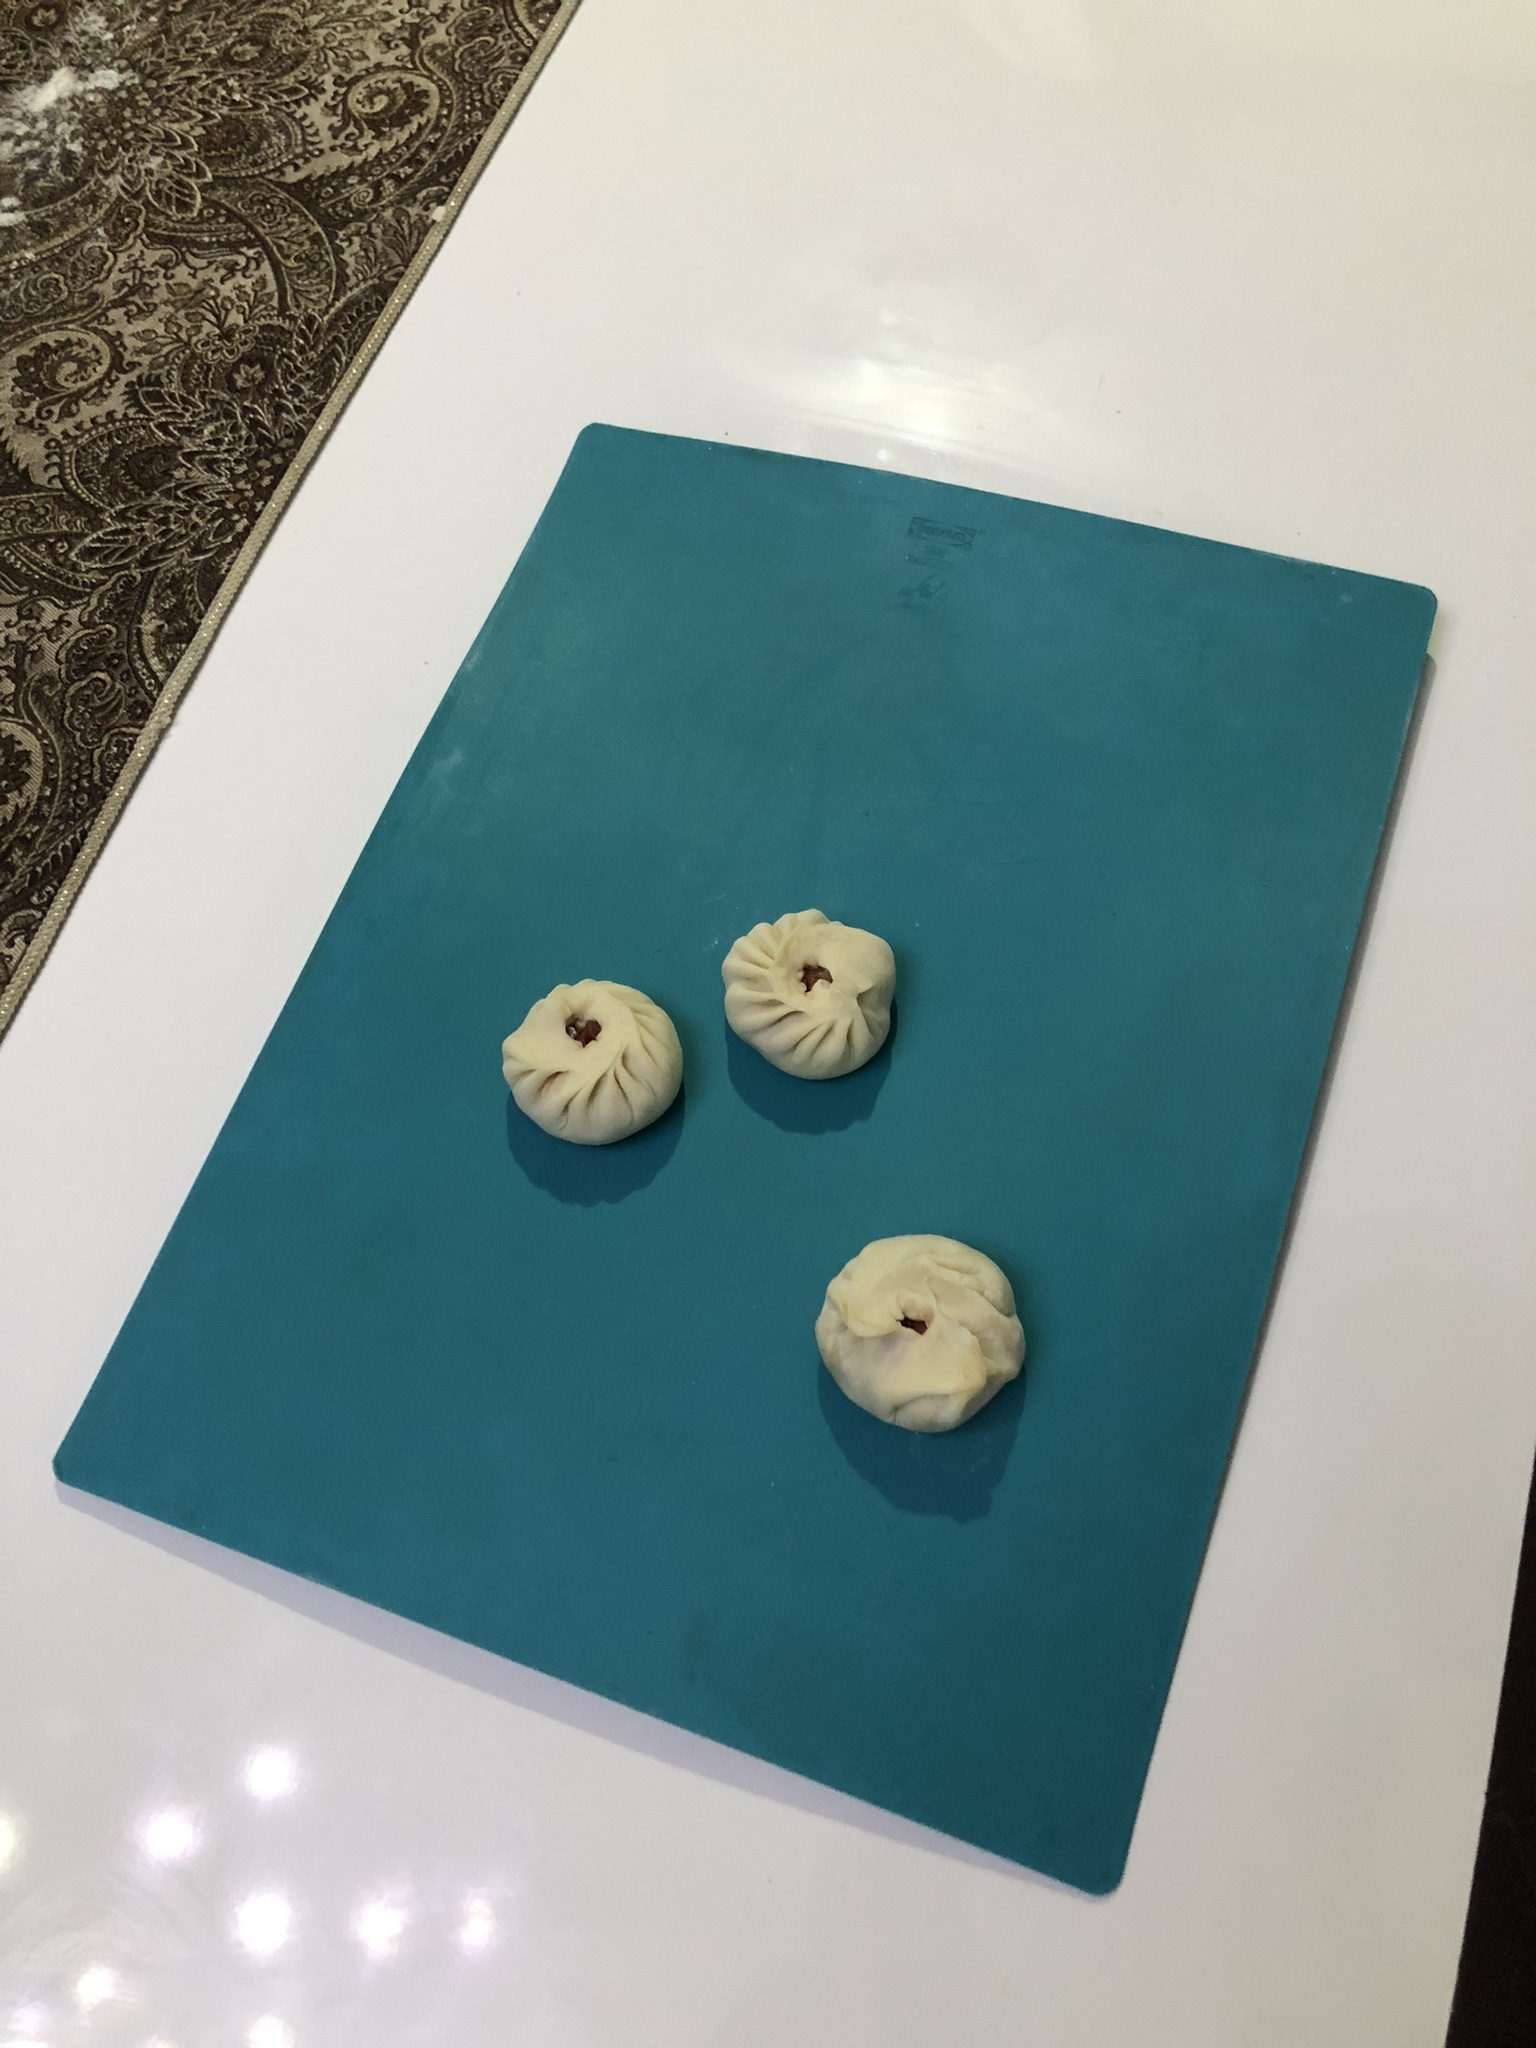buuz: (808, 1226, 1039, 1445), (710, 900, 916, 1093), (487, 974, 691, 1158)
